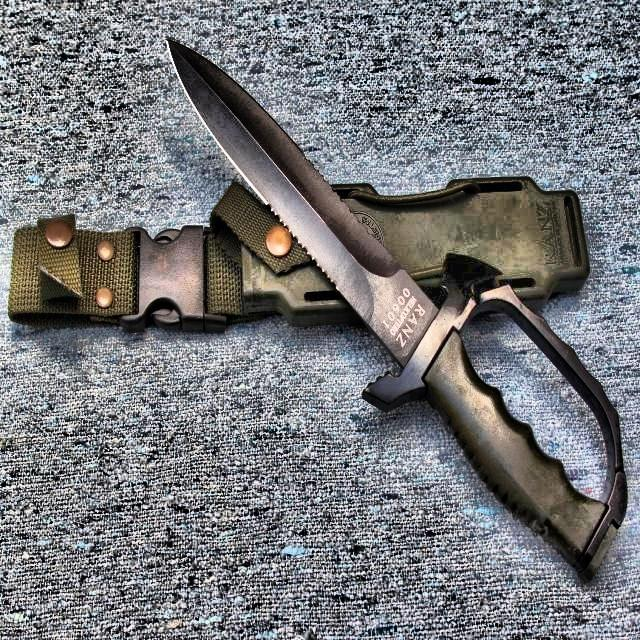knife: (168, 42, 626, 578)
